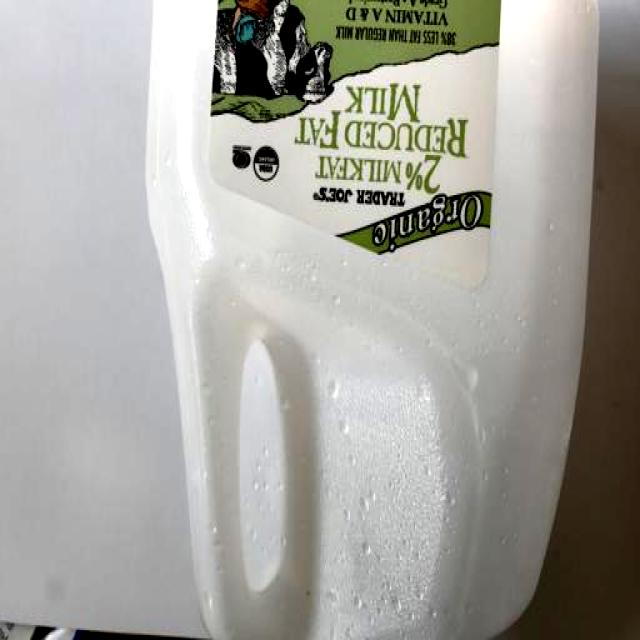plastic: (148, 3, 598, 638)
